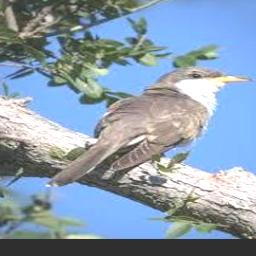Cuckoo: (46, 67, 254, 188)
